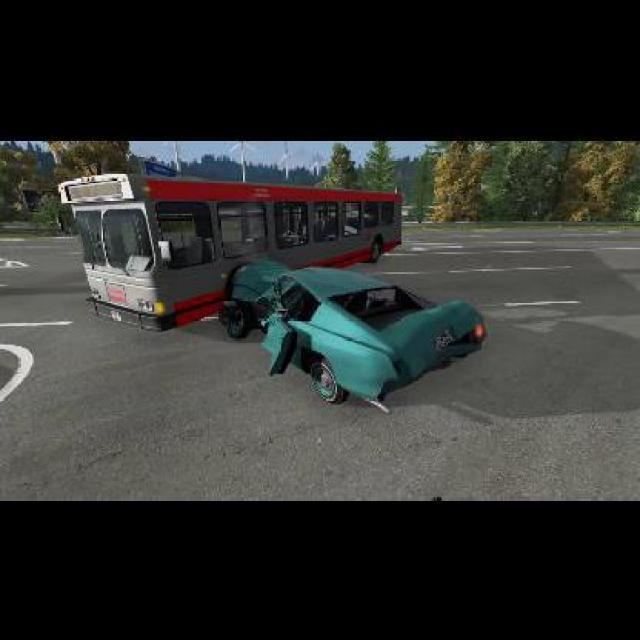accident: (51, 165, 494, 408)
